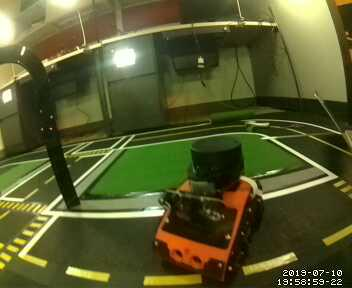pheeno: (146, 136, 264, 287)
